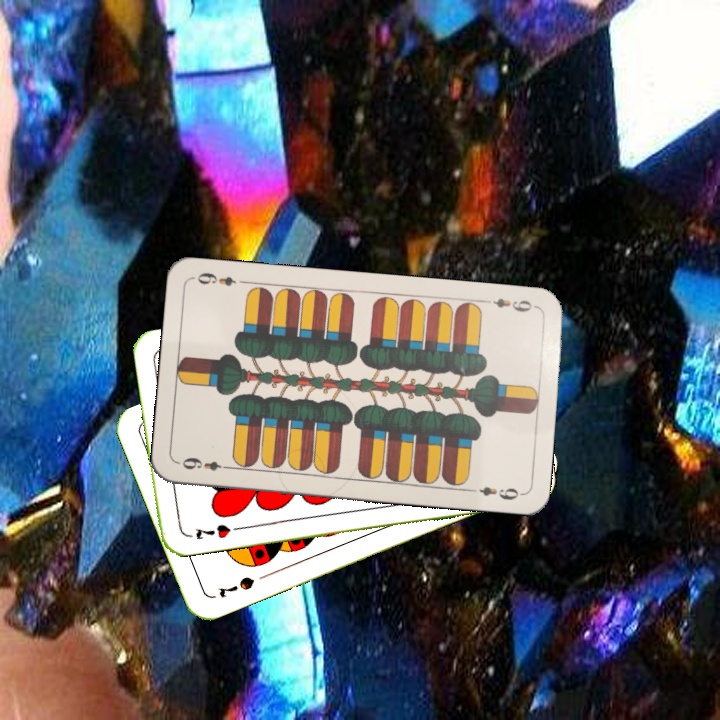E9: (480, 294, 539, 315), (178, 453, 234, 474)
H7: (191, 520, 233, 542)
S7: (214, 572, 257, 601)
